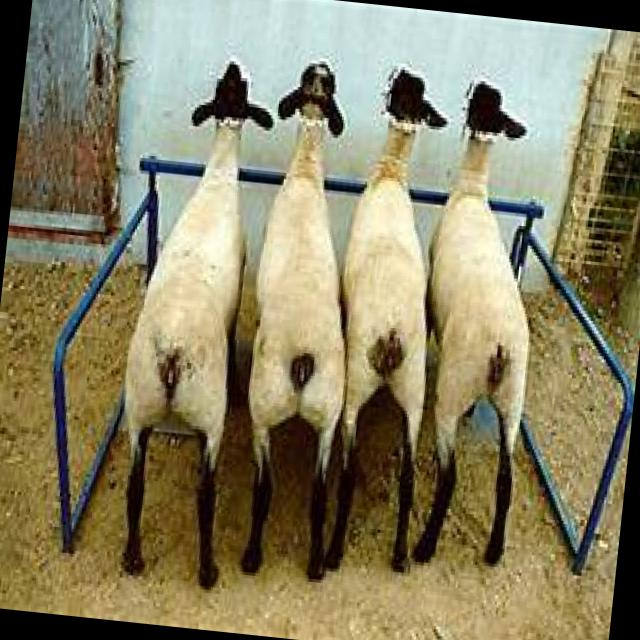sheep: (104, 50, 280, 591), (225, 53, 383, 580), (396, 74, 559, 571), (311, 59, 462, 576)
